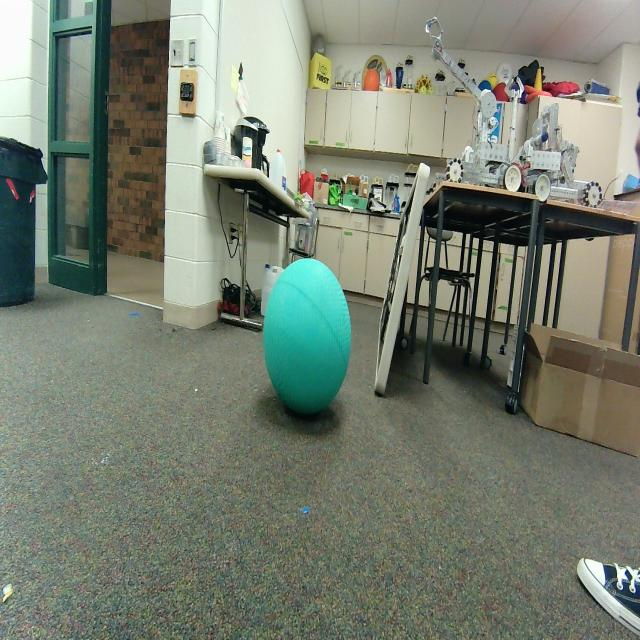algae: (264, 256, 350, 418)
